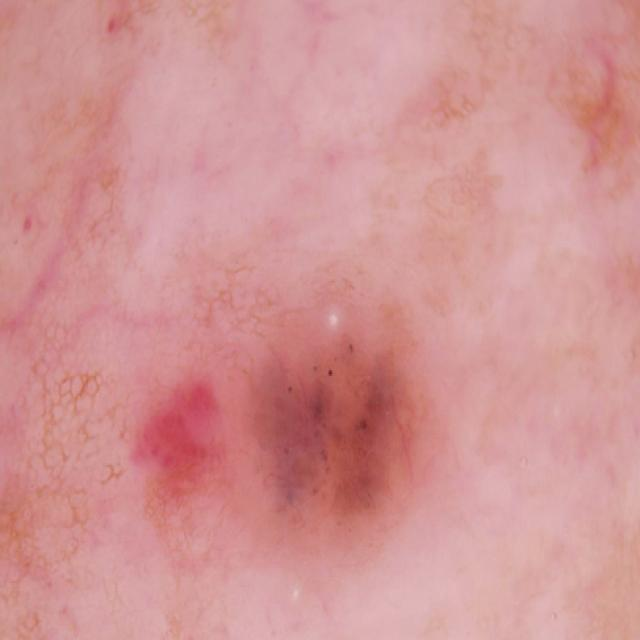Carcinoma: (227, 287, 463, 559), (125, 374, 220, 539)
